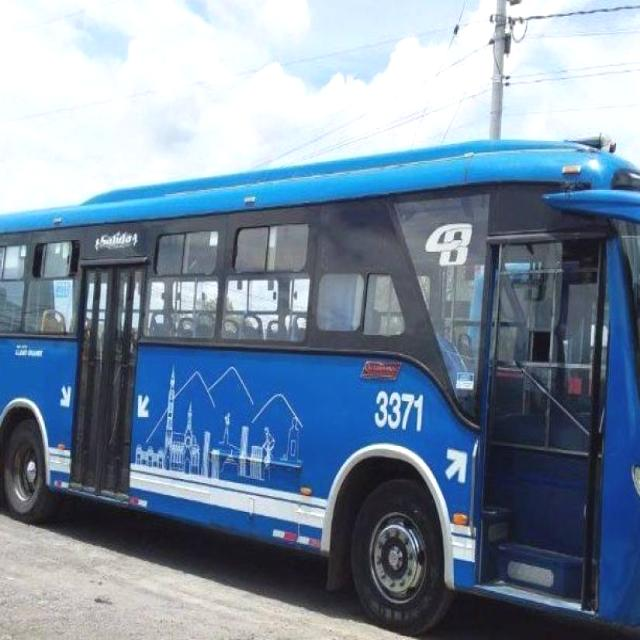BUS: (136, 156, 640, 638)
